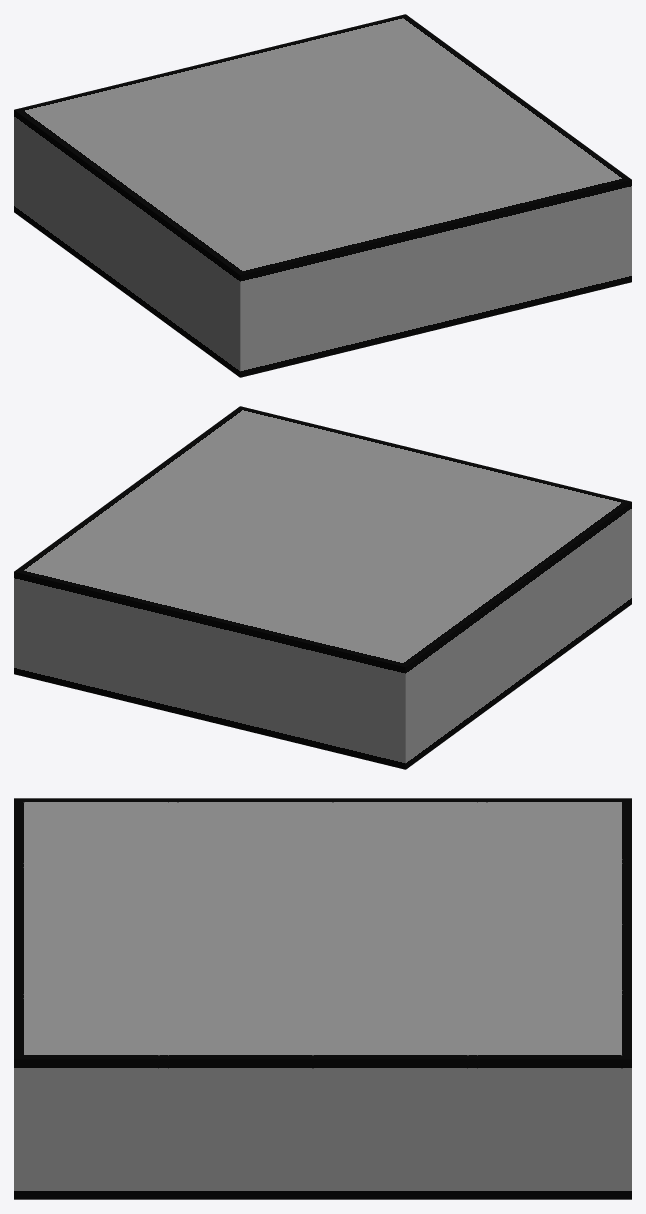
Rendered from block.glb.
3 views of the same model, one above another, from view 1: azimuth 30°, elevation 25°; view 2: azimuth 150°, elevation 25°; view 3: azimuth 270°, elevation 25° (orthographic). The views are drawn at different scales.
Parts seen in each view (by area): view 1: block; view 2: block; view 3: block.
Boxes of the visible parts, box(x1,y1,x2,y2) form: block: box(14, 14, 631, 377); block: box(14, 406, 631, 769); block: box(14, 798, 631, 1199).
Bounding box in the file's own units: 4 × 1 × 4.
1 material, 1 textured.
